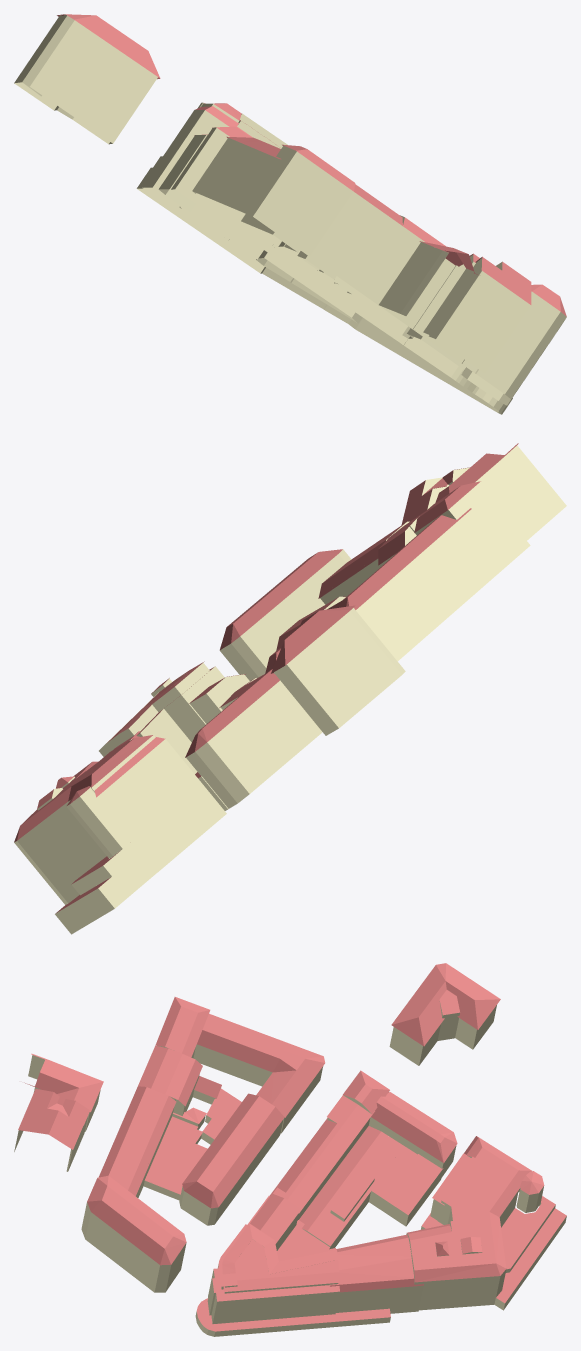
File: tile_074.glb
3 views of the same model, one above another, from view 1: azimuth 30°, elevation 25°; view 2: azimuth 150°, elevation 25°; view 3: azimuth 270°, elevation 25° (orthographic). The views are drawn at different scales.
Parts seen in each view (by area): view 1: Batched_Building_ID_079F6BCB-85C9-40DE-BD0E-09135C1CFCED; view 2: Batched_Building_ID_079F6BCB-85C9-40DE-BD0E-09135C1CFCED; view 3: Batched_Building_ID_079F6BCB-85C9-40DE-BD0E-09135C1CFCED.
Part boxes in pixels (box(x1,y1,x2,y2)): Batched_Building_ID_079F6BCB-85C9-40DE-BD0E-09135C1CFCED: box(14, 14, 566, 414); Batched_Building_ID_079F6BCB-85C9-40DE-BD0E-09135C1CFCED: box(14, 443, 566, 934); Batched_Building_ID_079F6BCB-85C9-40DE-BD0E-09135C1CFCED: box(14, 963, 566, 1336).
Size of the model in its own units: 122 by 109 by 202.
